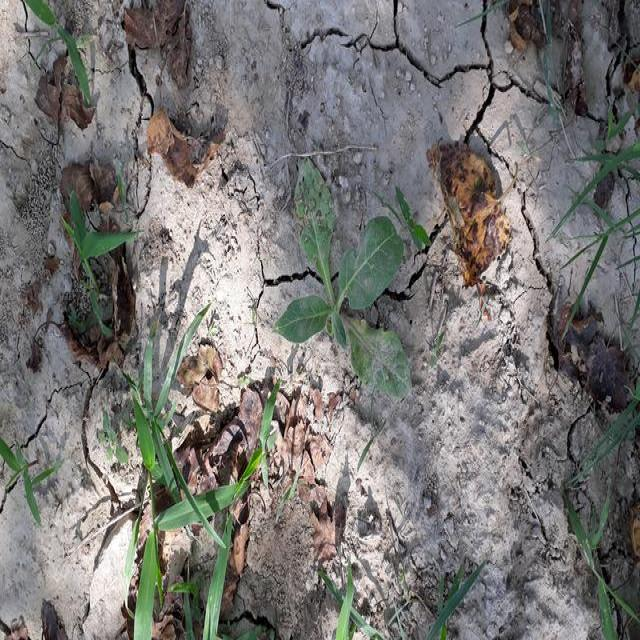crop: (278, 159, 411, 405)
